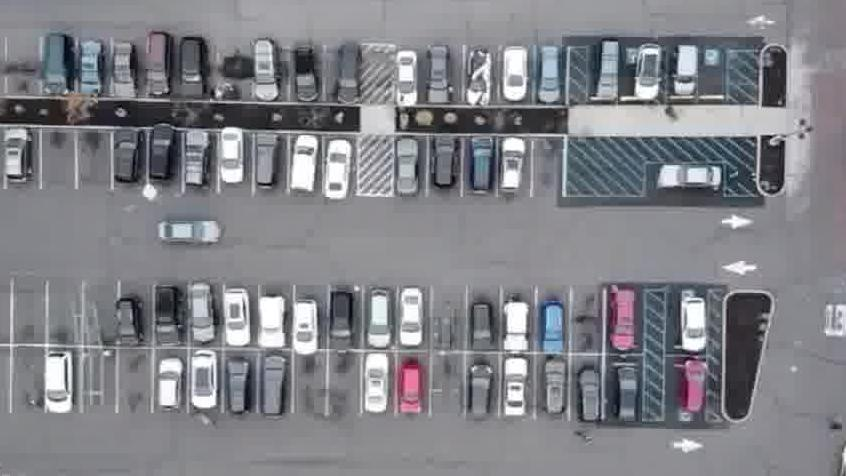car: (358, 284, 400, 346), (358, 352, 396, 419), (44, 350, 79, 420), (38, 36, 74, 101), (177, 39, 212, 104), (316, 139, 351, 204), (653, 160, 724, 192), (141, 32, 172, 101), (153, 218, 224, 248), (110, 128, 146, 187), (502, 357, 535, 421), (257, 357, 289, 423), (187, 352, 221, 414), (494, 135, 527, 198), (146, 125, 179, 188), (223, 358, 255, 421), (326, 290, 357, 355), (334, 43, 365, 107), (284, 135, 317, 195), (286, 298, 320, 356), (152, 286, 183, 349), (156, 349, 187, 412), (249, 135, 281, 196), (607, 282, 637, 347), (397, 282, 426, 347), (249, 41, 277, 108), (466, 361, 497, 421), (396, 355, 427, 415), (256, 296, 288, 354), (628, 43, 661, 99), (222, 291, 252, 352), (391, 137, 420, 199), (1, 132, 32, 190), (428, 133, 458, 192), (468, 136, 497, 197), (498, 298, 529, 355), (499, 43, 528, 103), (423, 48, 452, 108), (575, 362, 603, 424), (670, 43, 701, 99), (179, 131, 208, 190), (680, 357, 709, 416), (591, 41, 620, 99), (76, 42, 105, 100), (115, 289, 145, 345), (613, 359, 640, 421), (677, 289, 705, 348), (532, 43, 559, 104), (293, 42, 319, 105), (393, 52, 420, 112), (191, 284, 216, 348), (466, 47, 494, 104), (540, 356, 567, 415), (217, 127, 243, 188), (538, 299, 567, 352), (111, 43, 136, 104), (468, 302, 492, 355)
